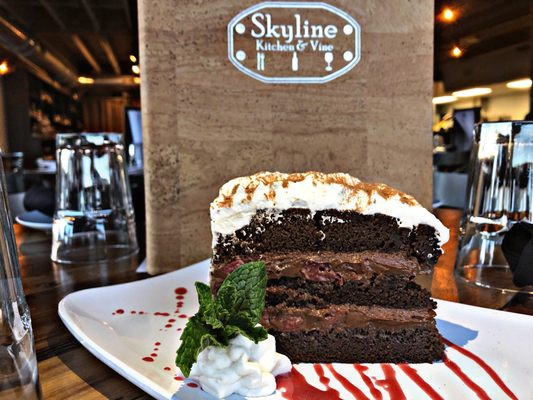curry: (174, 261, 272, 377)
pizza: (51, 134, 139, 279), (0, 156, 41, 400)
